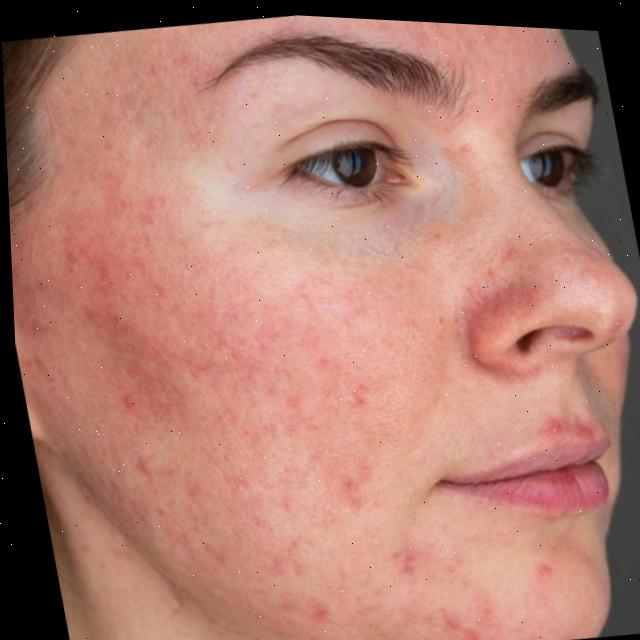Rosacea: (98, 194, 415, 572), (352, 572, 533, 640)
